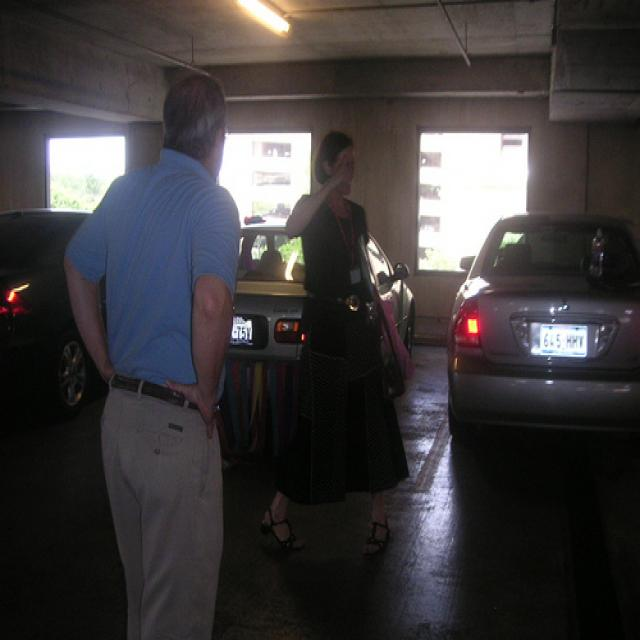Car: (440, 202, 640, 448), (200, 214, 418, 436)
